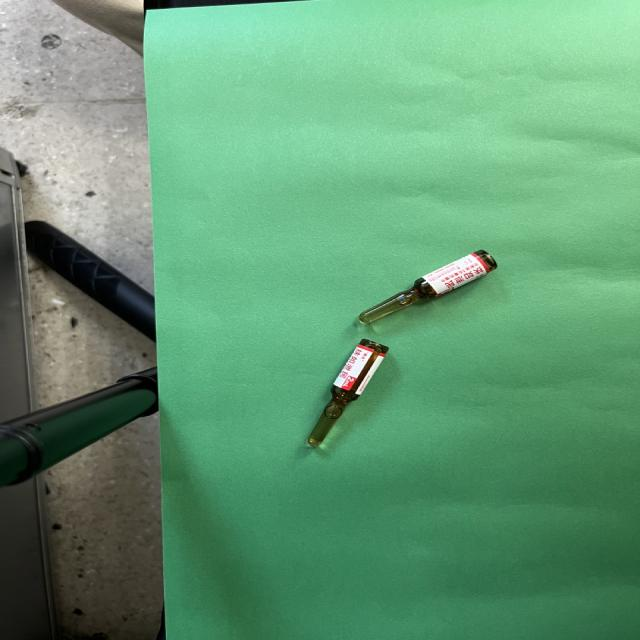Ampoules: (359, 250, 497, 323), (309, 339, 388, 446)
